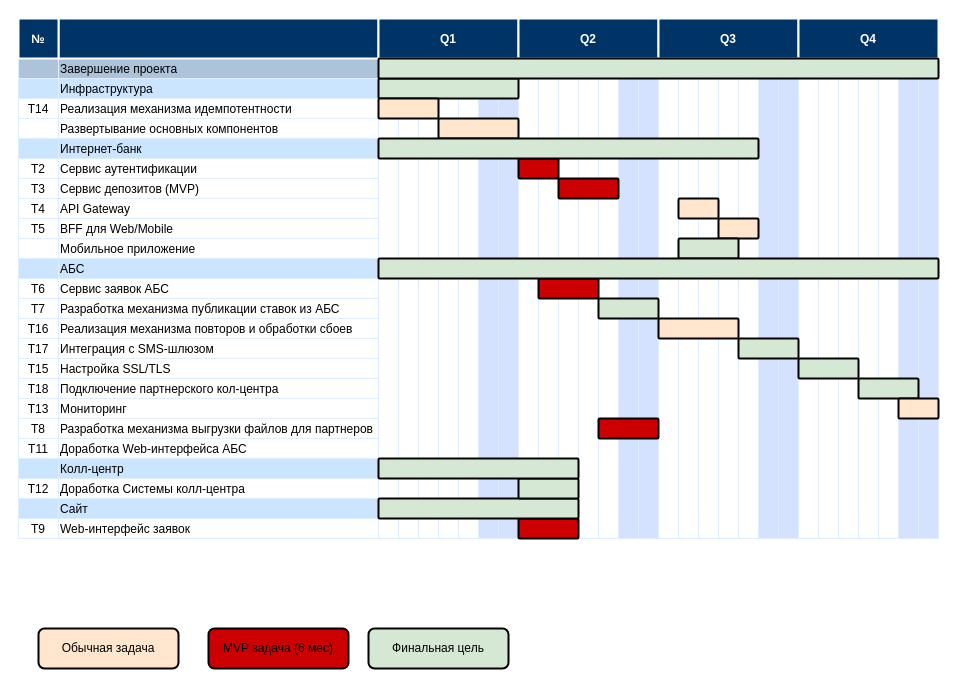
Image size: 956x686. Some labels were removed from this diagram. The shapes that lost their labels are listed below. From the top down, each one's centre as x and y in pixels, then its label:
the point at 218,38: Задача
the point at 38,128: T1
the point at 38,248: T10
